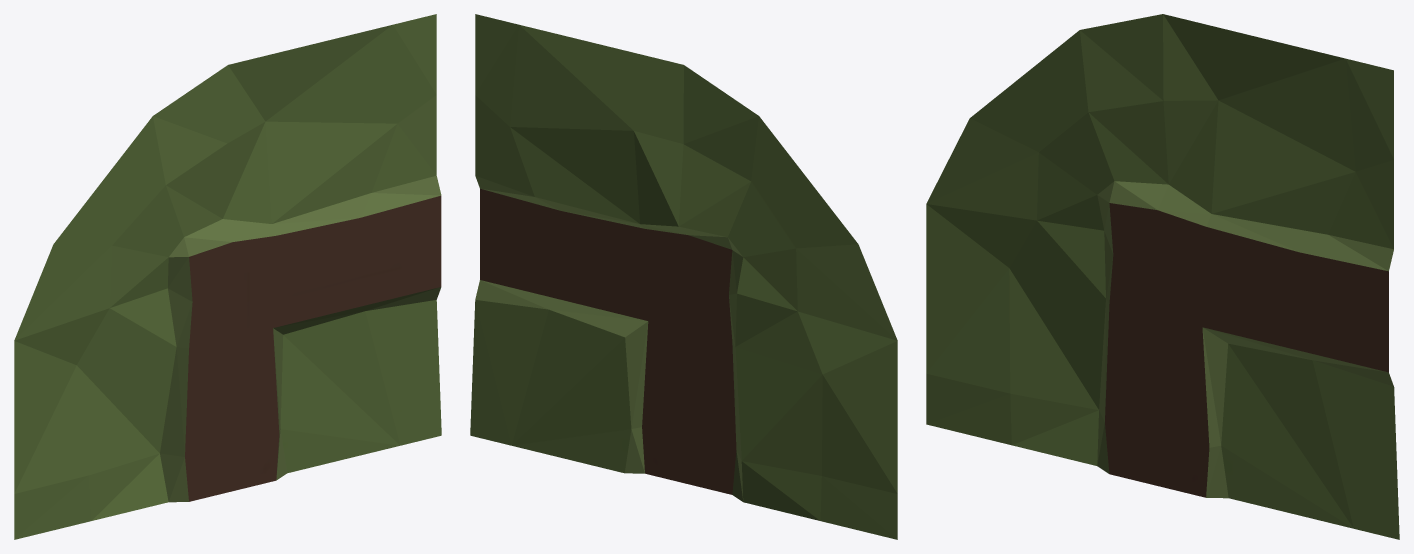
File: RoadL.fbx
The picture shows the model from 3 angles, left to right: view 1: azimuth 30°, elevation 25°; view 2: azimuth 150°, elevation 25°; view 3: azimuth 330°, elevation 25°; orthographic projection. The views are drawn at different scales.
Visible parts, largest first — view 1: road2; view 2: road2; view 3: road2.
Boxes of the visible parts, <box> form: road2: <box>14,14,441,539</box>; road2: <box>470,14,897,539</box>; road2: <box>926,14,1399,539</box>.
Bounding box in the file's own units: 3232 × 3055 × 144.
Materials: 1 (1 with a texture image).
